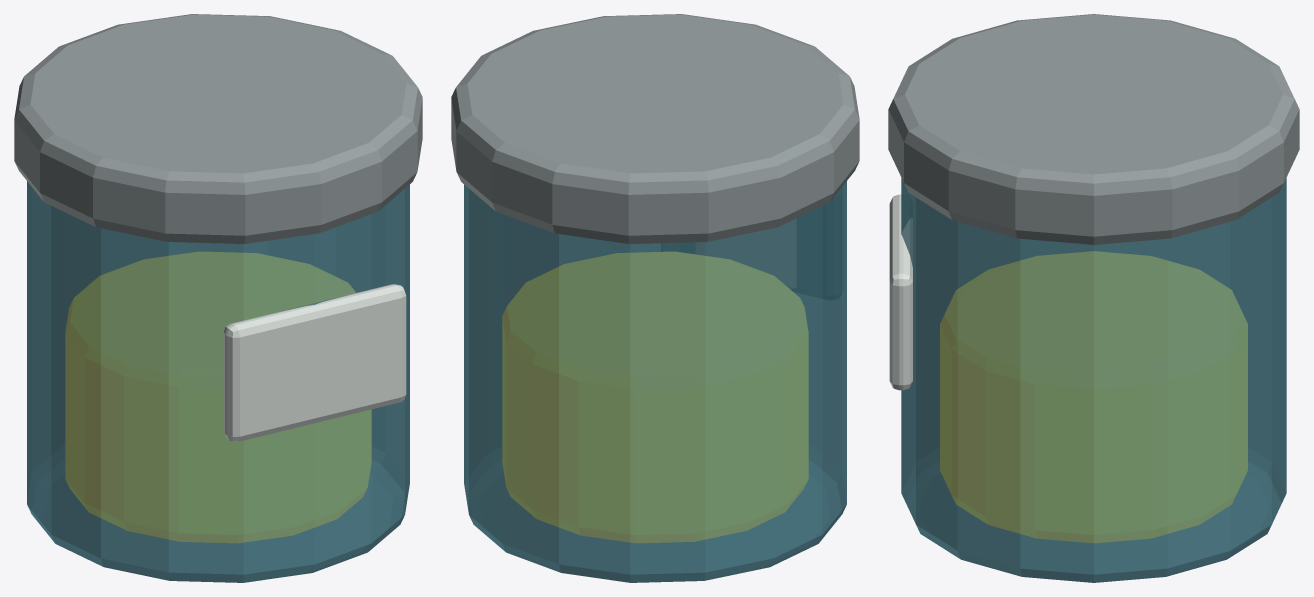
The model's file is Find_MarsDust.glb.
3 renders of one model, left to right at view 1: azimuth 30°, elevation 25°; view 2: azimuth 150°, elevation 25°; view 3: azimuth 270°, elevation 25°, orthographic.
Visible parts, largest first — view 1: Find_MarsDust, Find_MarsDust_Lid, Find_MarsDust_Dust, Find_MarsDust_Label; view 2: Find_MarsDust, Find_MarsDust_Dust, Find_MarsDust_Lid, Find_MarsDust_Label; view 3: Find_MarsDust, Find_MarsDust_Dust, Find_MarsDust_Lid, Find_MarsDust_Label.
Part boxes in pixels (x1,y1,x2,y2): Find_MarsDust: (27, 181, 409, 582); Find_MarsDust_Lid: (14, 14, 422, 243); Find_MarsDust_Dust: (65, 252, 371, 542); Find_MarsDust_Label: (224, 284, 406, 441); Find_MarsDust: (464, 181, 846, 582); Find_MarsDust_Dust: (502, 252, 808, 542); Find_MarsDust_Lid: (451, 14, 859, 243); Find_MarsDust_Label: (696, 219, 796, 288); Find_MarsDust: (901, 178, 1286, 582); Find_MarsDust_Dust: (940, 251, 1247, 542); Find_MarsDust_Lid: (888, 14, 1299, 244); Find_MarsDust_Label: (889, 194, 912, 390).
Size of the model in its own units: 0.64 by 0.71 by 0.64.
